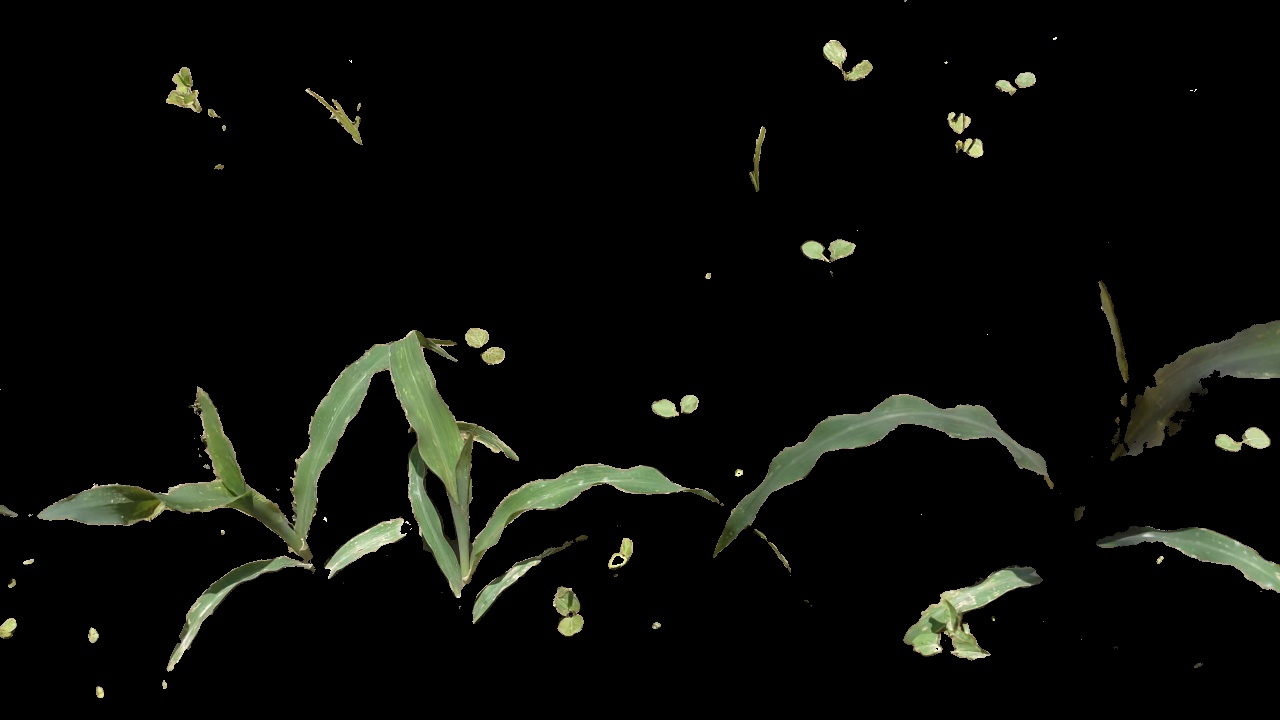crop: (711, 203, 1280, 697), (389, 325, 743, 649), (40, 316, 386, 636)
weed: (293, 55, 378, 146), (146, 72, 231, 136), (810, 36, 890, 96), (913, 602, 988, 662), (793, 233, 863, 278), (985, 59, 1053, 98), (460, 316, 508, 371), (749, 117, 782, 197), (947, 101, 982, 169), (555, 587, 600, 639), (1215, 426, 1276, 463), (598, 533, 649, 575), (647, 391, 715, 421)
